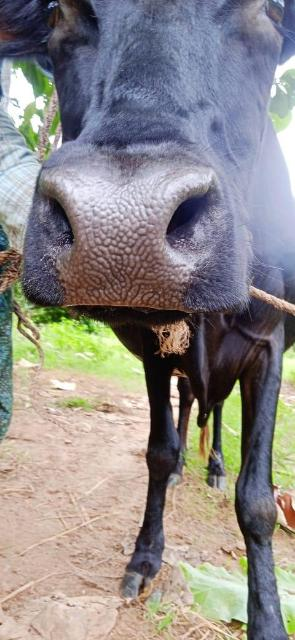Muzzle: (36, 162, 219, 304)
